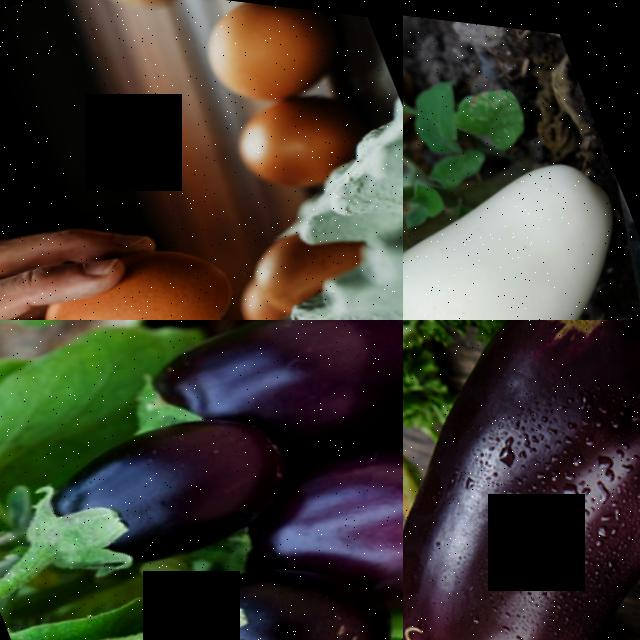egg_: (23, 214, 246, 320), (221, 61, 369, 196), (184, 0, 356, 116)
eggplant: (403, 320, 640, 640), (0, 374, 299, 612), (403, 101, 640, 320), (142, 516, 385, 640), (221, 320, 403, 484), (304, 370, 403, 635)
